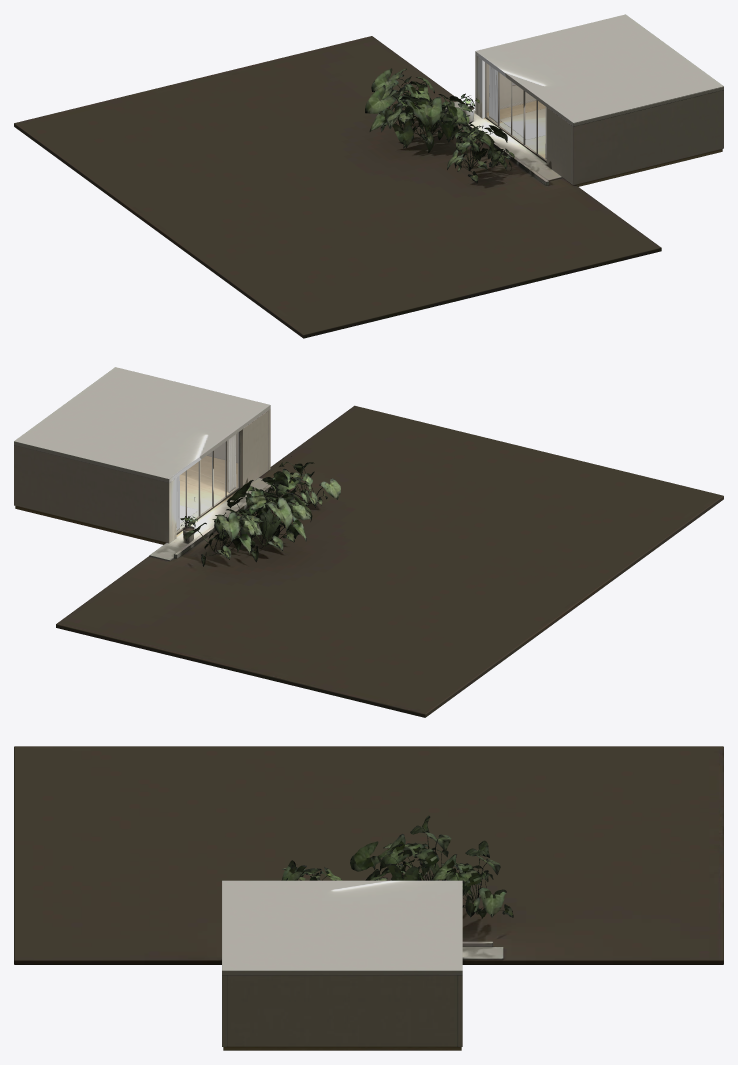
File: living-light.glb
The picture shows the model from 3 angles, top to bottom: view 1: azimuth 30°, elevation 25°; view 2: azimuth 150°, elevation 25°; view 3: azimuth 270°, elevation 25°; orthographic projection. The views are drawn at different scales.
Visible parts, largest first — view 1: fixed-garden, architecture.ceiling, architecture.front-wall, fixed-architecture, fixed-textiles, architecture.back-wall, window.glass.01, window.glass.02, window.glass.03, window.glass.04, window.glass.00; view 2: fixed-garden, architecture.ceiling, architecture.back-wall, fixed-architecture, fixed-textiles, window.glass.02, window.glass.03, window.glass.00, window.glass.01; view 3: fixed-garden, architecture.ceiling, architecture.right-wall, fixed-architecture.
Boxes of the visible parts, x1=… form: fixed-garden: x1=14, y1=36, x2=661, y2=338; architecture.ceiling: x1=475, y1=14, x2=723, y2=126; architecture.front-wall: x1=571, y1=90, x2=723, y2=185; fixed-architecture: x1=477, y1=56, x2=722, y2=186; fixed-textiles: x1=489, y1=65, x2=546, y2=158; architecture.back-wall: x1=475, y1=55, x2=534, y2=114; window.glass.01: x1=524, y1=91, x2=536, y2=153; window.glass.02: x1=512, y1=82, x2=523, y2=143; window.glass.03: x1=499, y1=73, x2=510, y2=134; window.glass.04: x1=486, y1=63, x2=497, y2=124; window.glass.00: x1=537, y1=101, x2=546, y2=160; fixed-garden: x1=56, y1=405, x2=723, y2=717; architecture.ceiling: x1=14, y1=367, x2=270, y2=482; architecture.back-wall: x1=14, y1=445, x2=171, y2=543; fixed-architecture: x1=15, y1=411, x2=268, y2=544; fixed-textiles: x1=176, y1=434, x2=236, y2=530; window.glass.02: x1=200, y1=451, x2=212, y2=515; window.glass.03: x1=187, y1=461, x2=199, y2=524; window.glass.00: x1=227, y1=432, x2=238, y2=495; window.glass.01: x1=214, y1=442, x2=225, y2=505; fixed-garden: x1=14, y1=746, x2=723, y2=964; architecture.ceiling: x1=222, y1=880, x2=462, y2=975; architecture.right-wall: x1=227, y1=975, x2=457, y2=1046; fixed-architecture: x1=223, y1=1047, x2=461, y2=1050.
Size of the model in its own units: 28.2 by 3.66 by 28.
9 materials, 6 textured.
